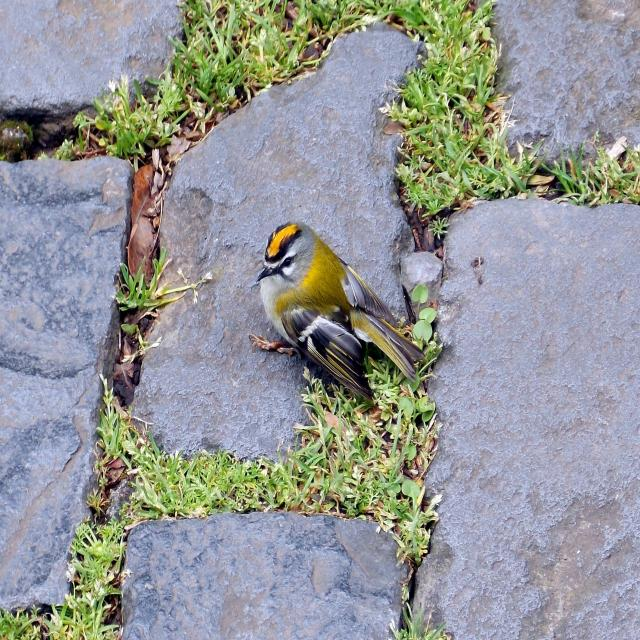bird: (249, 216, 430, 413)
